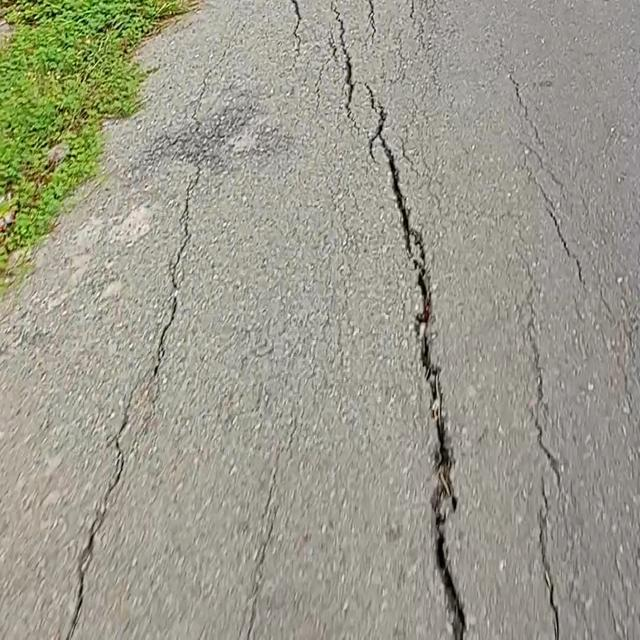Memanjang: (41, 166, 212, 640), (359, 90, 492, 640), (492, 73, 611, 324), (523, 332, 579, 639)
